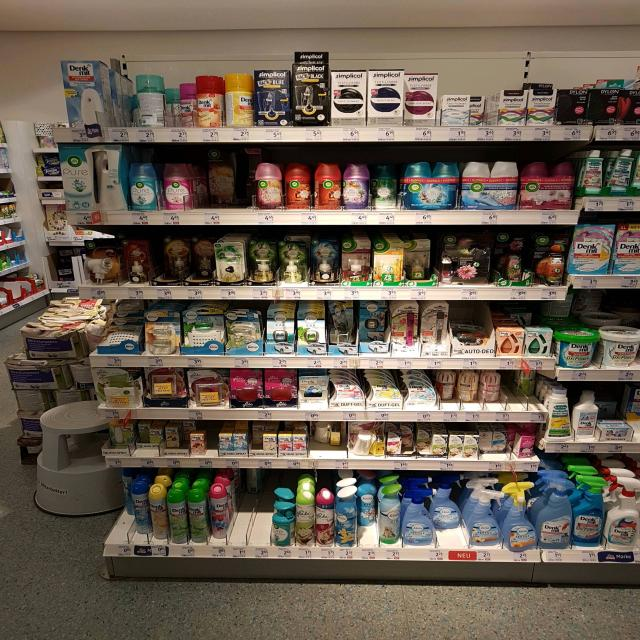void: (236, 500, 272, 546)
